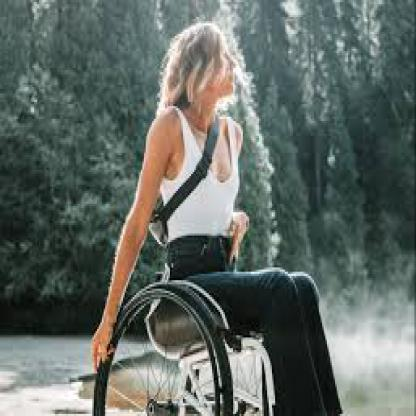wheelchair: (83, 10, 348, 414)
